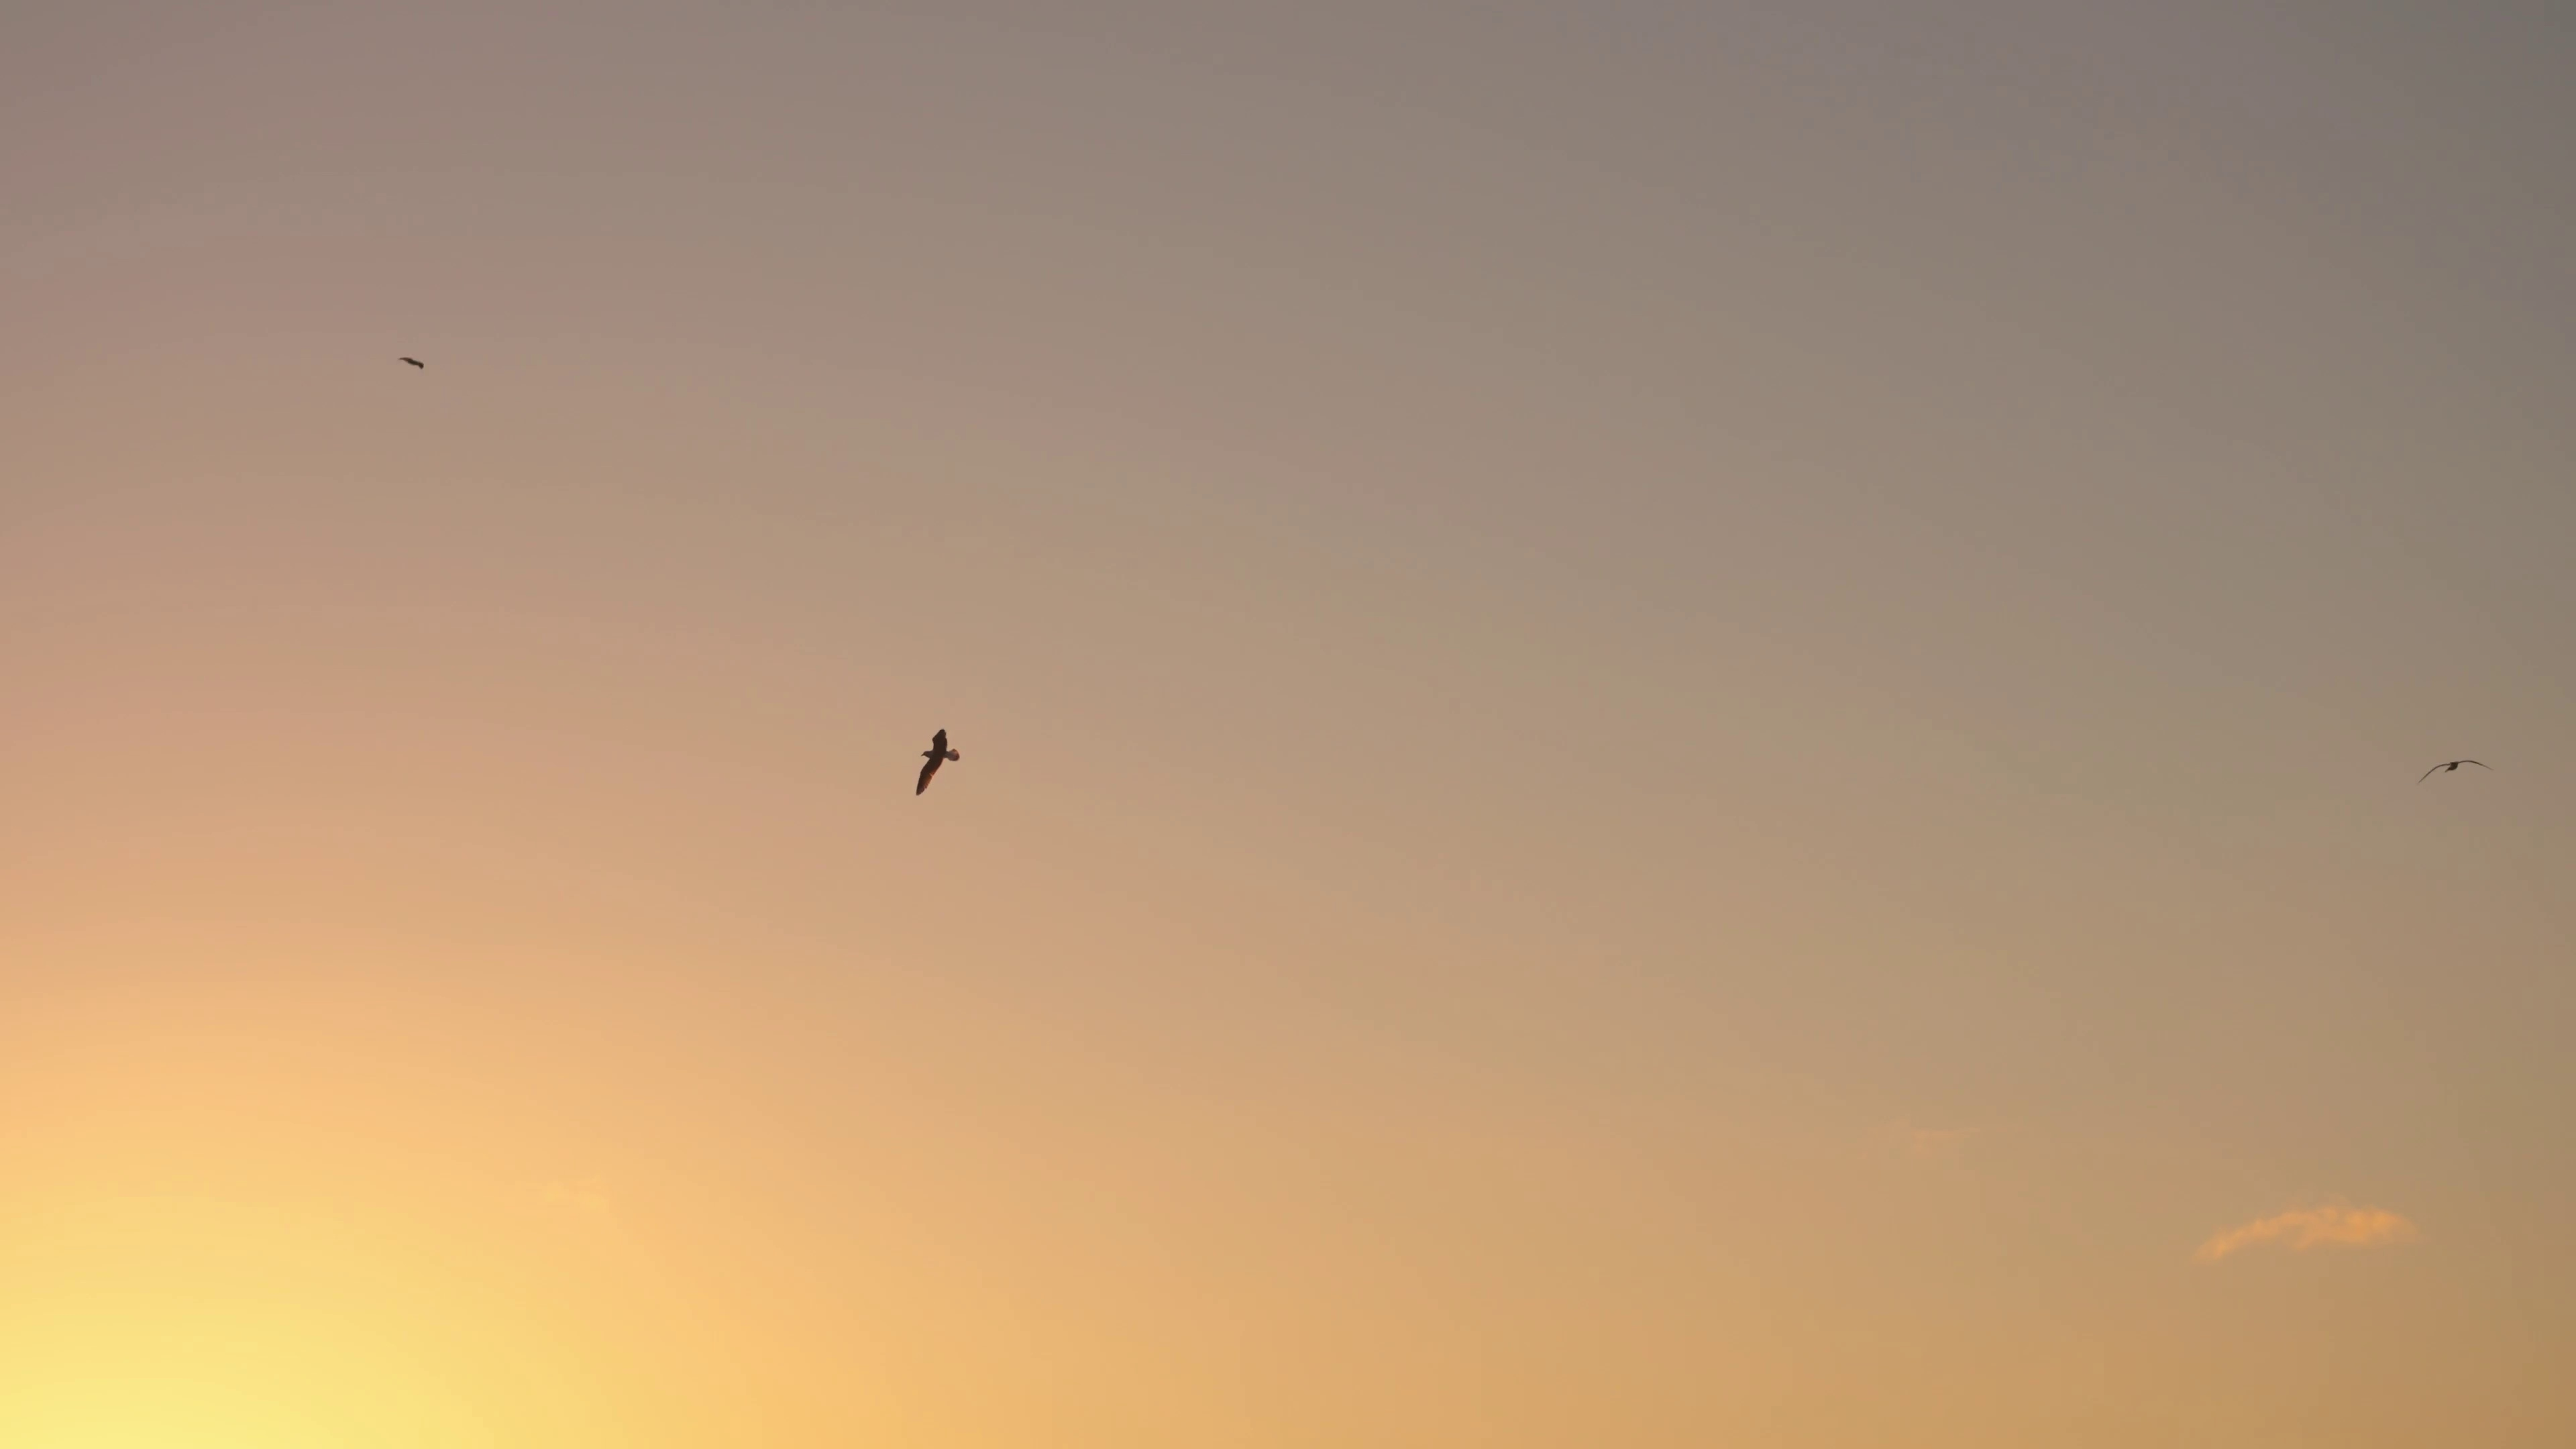bird: (913, 729, 961, 798), (2419, 757, 2493, 786), (400, 357, 423, 368)
